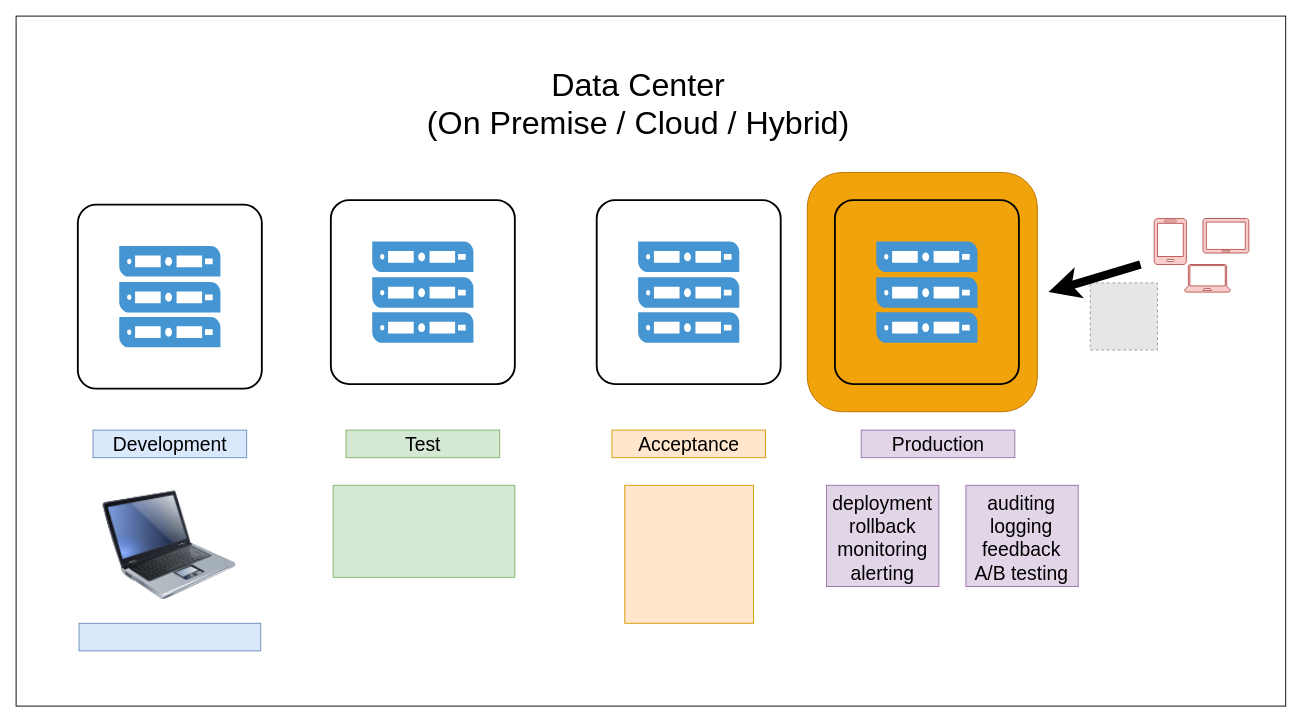
Image size: 1302x722. Some labels were removed from this diagram. Grey dashed boxes stand in for pictures. The shapes that lost their labels are listed below. From the top down, each one's centre as x and y in pixels, then its label:
At (423,530): "integration testing functional testing automated testing performance testing".
At (689,553): "user acceptance testing security testing load testing".
At (169,636): "developer sandbox".
